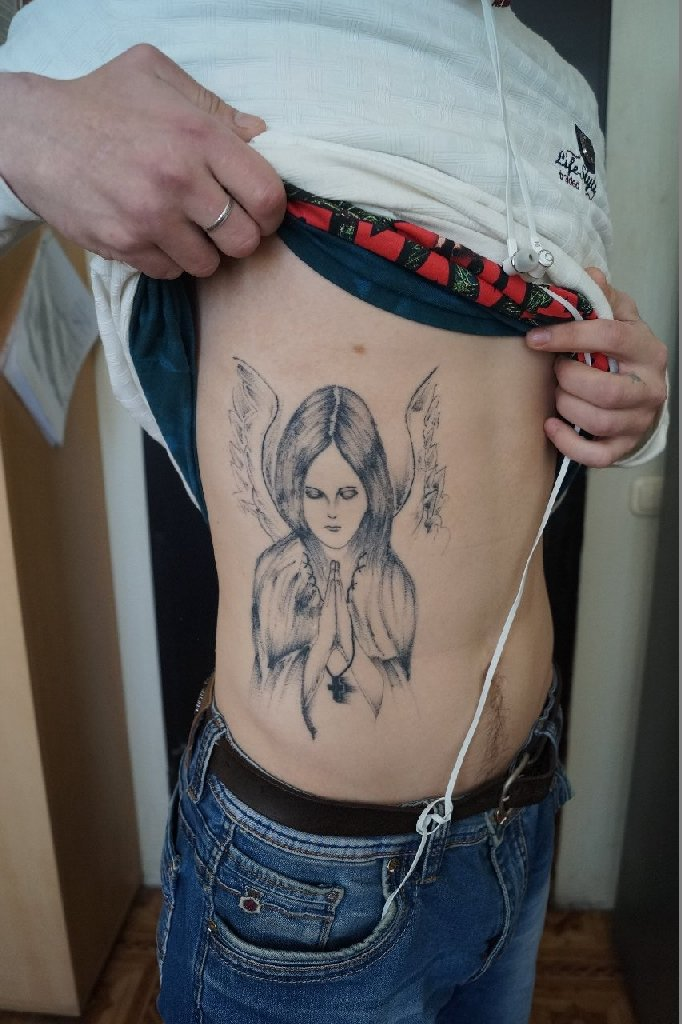tatu1_angel: (220, 355, 453, 727)
